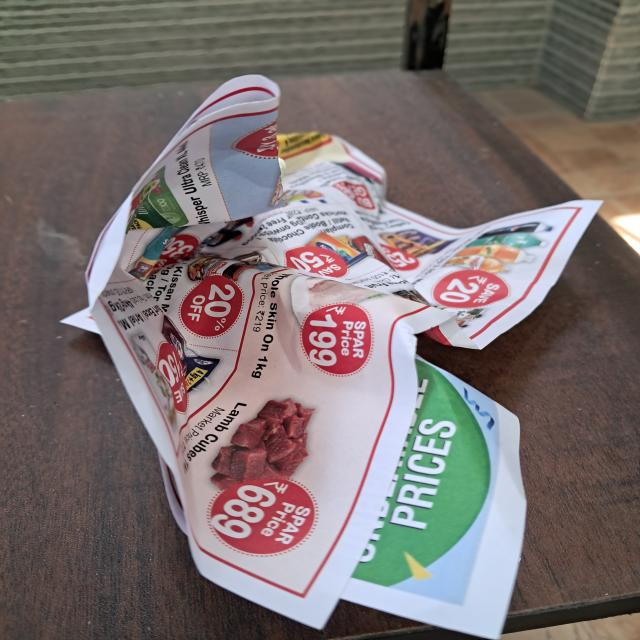Organik: (65, 71, 607, 640)
